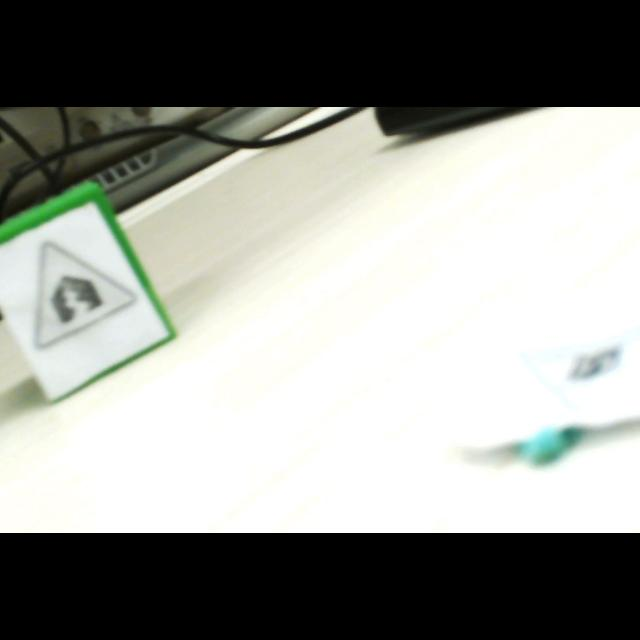Earthquake: (36, 242, 135, 348)
